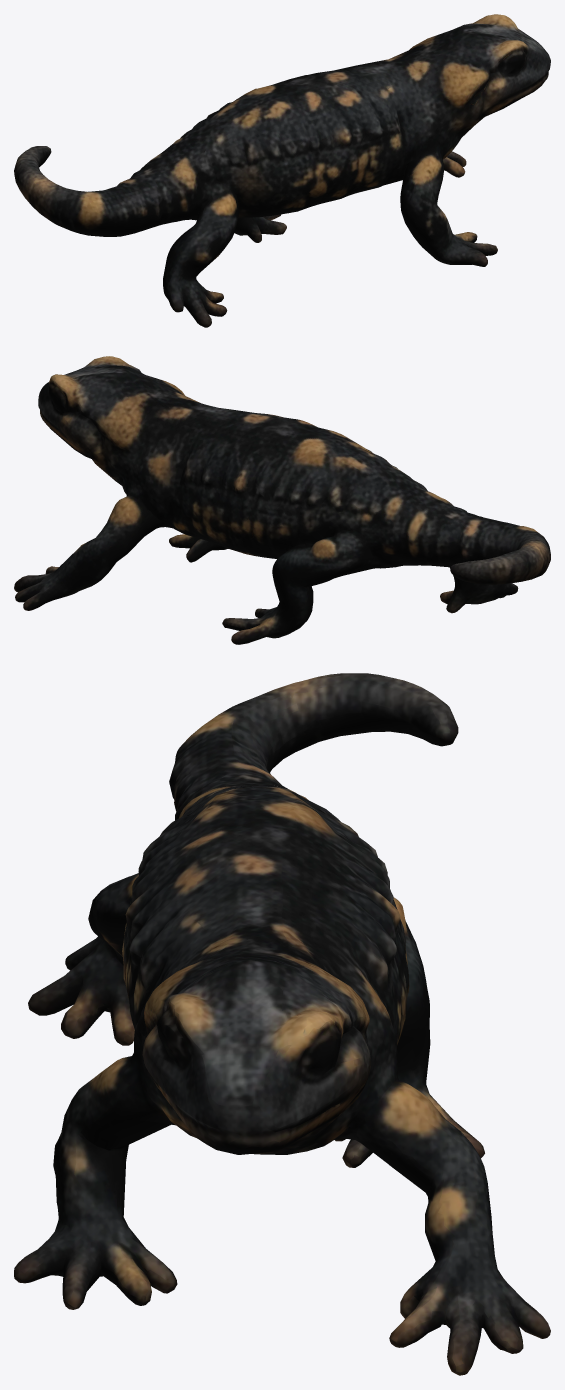
Rendered from fire-salamander-v21-lod.glb.
3 renders of one model, top to bottom at view 1: azimuth 30°, elevation 25°; view 2: azimuth 150°, elevation 25°; view 3: azimuth 270°, elevation 25°, orthographic. The views are drawn at different scales.
Visible parts, largest first — view 1: geometry_0; view 2: geometry_0; view 3: geometry_0.
Boxes of the visible parts, bbox=[...] form: geometry_0: bbox=[14, 14, 550, 327]; geometry_0: bbox=[14, 356, 550, 644]; geometry_0: bbox=[14, 673, 550, 1375].
Size of the model in its own units: 0.1798 by 0.065 by 0.0848.
Materials: 1 (1 with a texture image).
